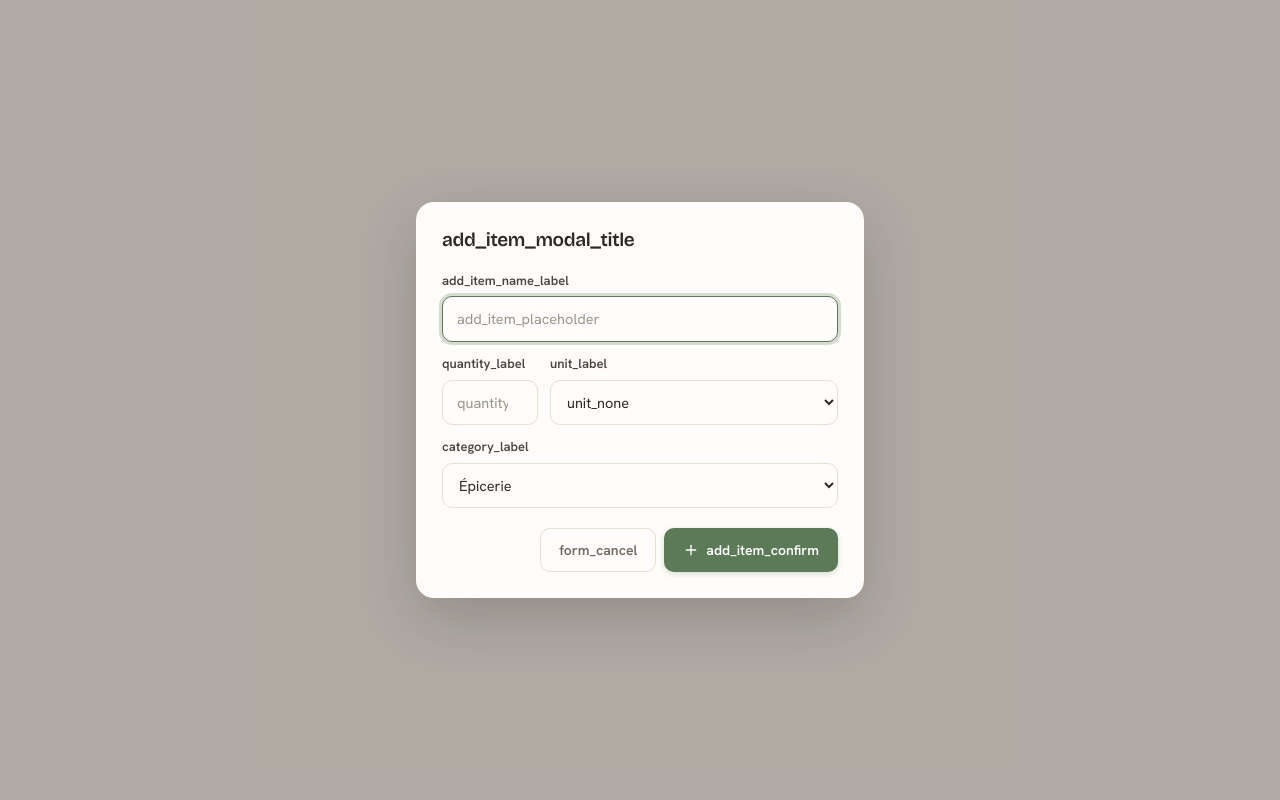
Scenario: AddItemModal › shows the quantity error inside the modal and stays open
Type "Riz" into the field labelled "add_item_name_label" at (640, 319), box x1=442 y1=296 x2=838 y2=342
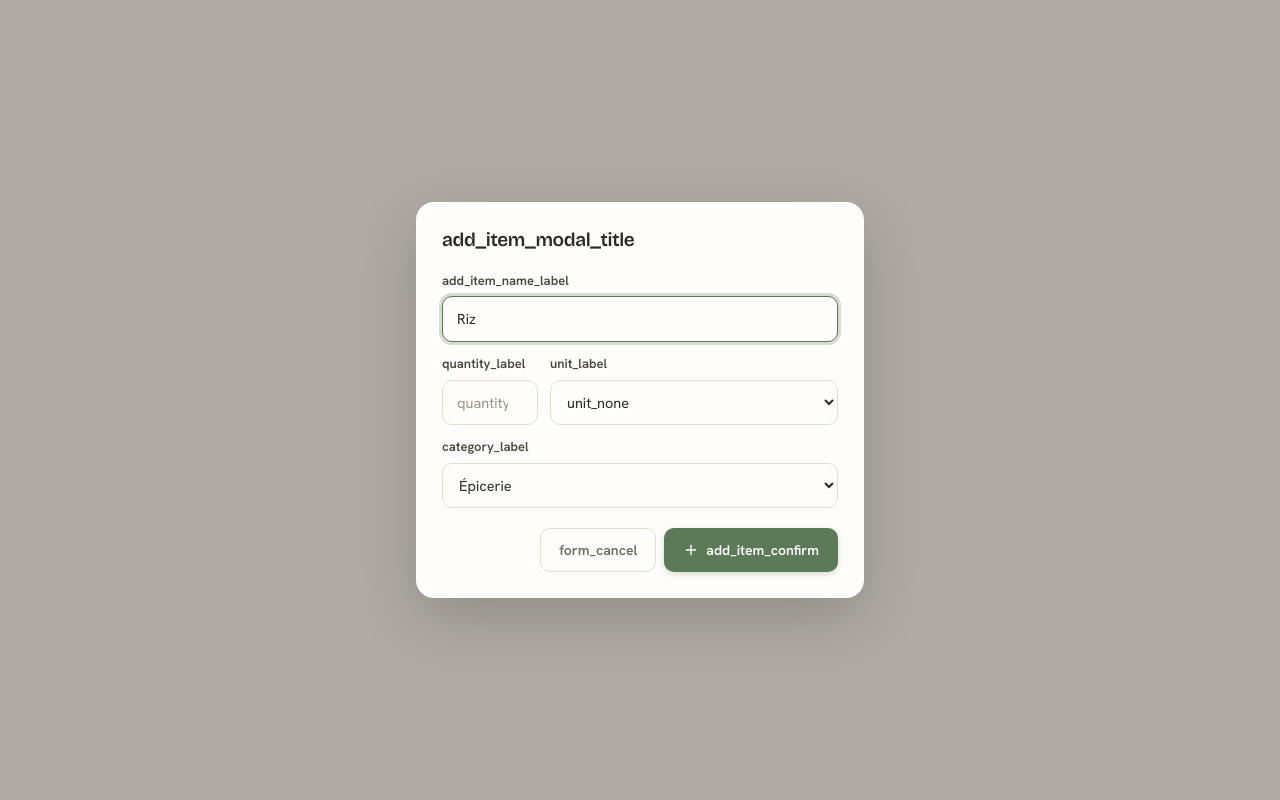
Type "-5" into the number field labelled "quantity_label" at (490, 402), box x1=442 y1=380 x2=538 y2=425
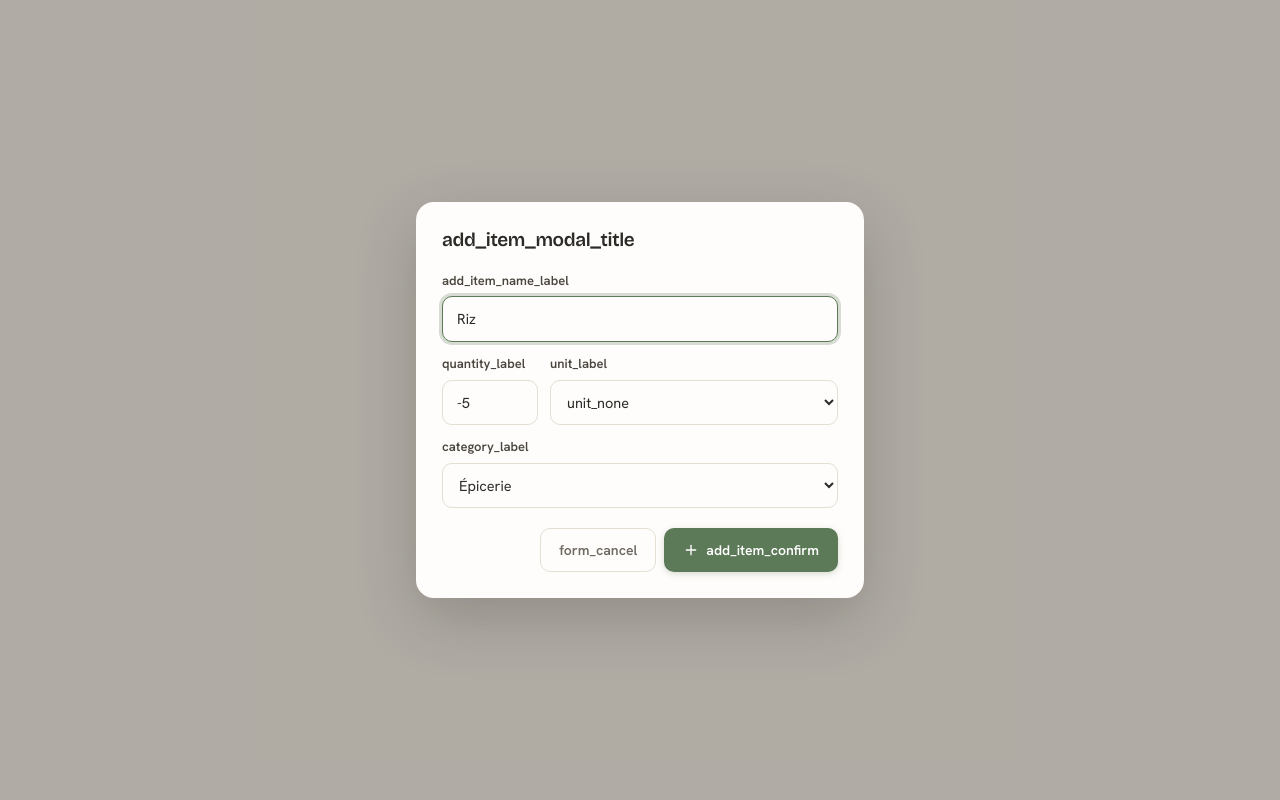
Click the button "add_item_confirm" at (751, 550), box x1=664 y1=528 x2=838 y2=572
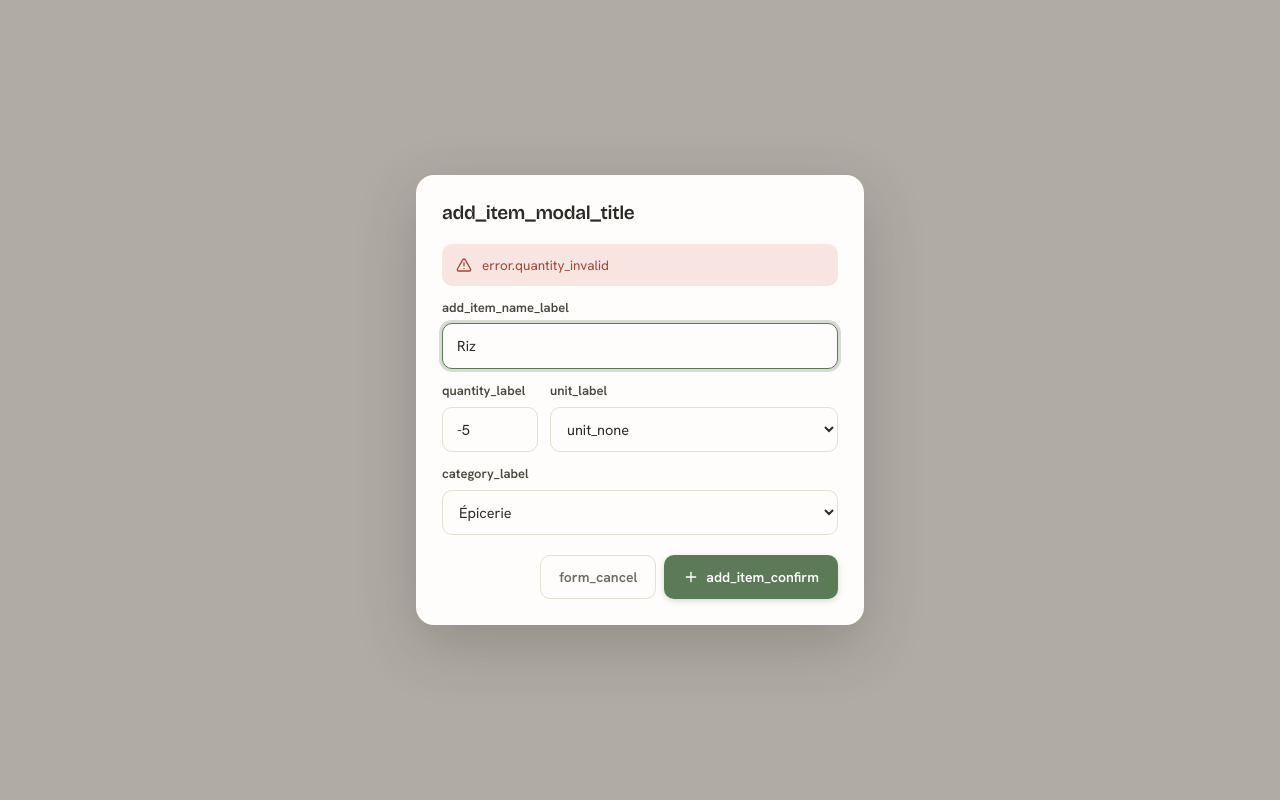
Now the text "error.quantity_invalid" is shown, box x1=482 y1=256 x2=609 y2=274
